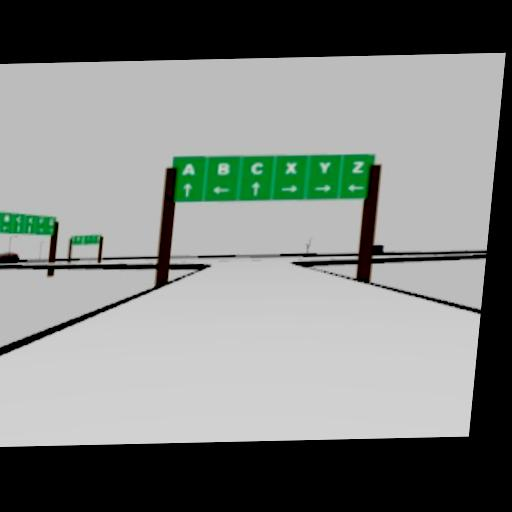A: (182, 164, 196, 175)
B: (216, 163, 230, 176)
C: (250, 161, 264, 175), (3, 214, 9, 222)
Left: (211, 185, 232, 194), (347, 184, 364, 192)
Right: (313, 184, 332, 193), (280, 183, 299, 191)
Straight: (182, 183, 194, 198), (250, 180, 261, 196)
X: (285, 162, 297, 175)
Y: (318, 161, 332, 174)
Z: (0, 216, 16, 231), (13, 214, 22, 232), (351, 161, 365, 172), (25, 216, 34, 232), (42, 215, 51, 226), (47, 216, 55, 226), (5, 212, 15, 220), (38, 217, 43, 224), (28, 217, 33, 224)
